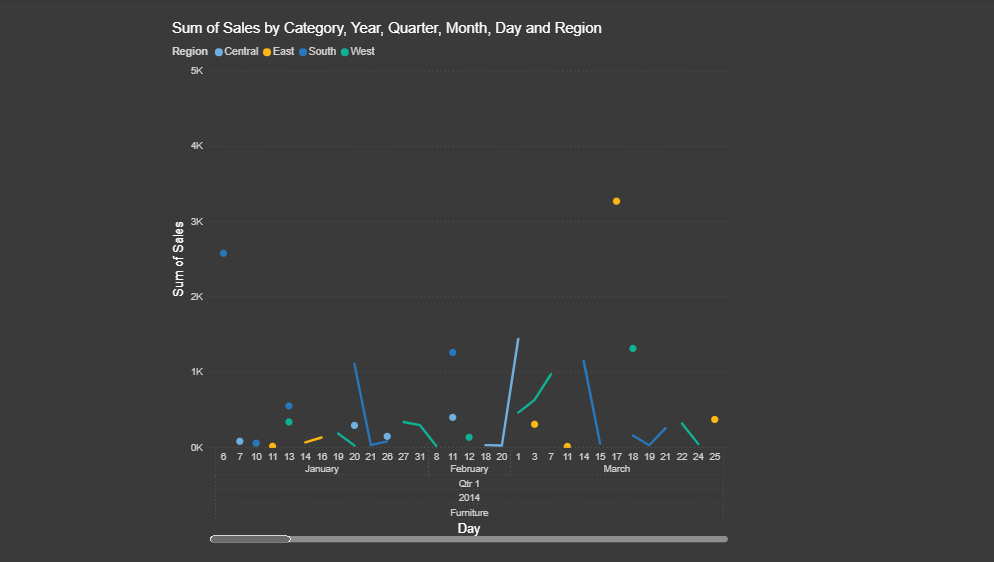

Layout of this report page (visuals, bound fields, positions):
{"tool":"powerbi","page":{"name":"Page 1","canvas":[1280,720],"ordinal":0},"visuals":[{"type":"lineChart","fields":{"Category":["Sample - Superstore.Category","Sample - Superstore.Order Date.Variation.Date Hierarchy.Year","Sample - Superstore.Order Date.Variation.Date Hierarchy.Quarter","Sample - Superstore.Order Date.Variation.Date Hierarchy.Month","Sample - Superstore.Order Date.Variation.Date Hierarchy.Day"],"Y":["Sum(Sample - Superstore.Sales)"],"Series":["Sample - Superstore.Region"]},"box":[220,28.3,710,663.3],"z":0}]}

Visuals, with their boxes in screenshot pixels (x1, y1, x2, y2), scaled from the page's 1280x720 canvas onto the 994x562 screenshot:
lineChart - Sample - Superstore.Category x Sample - Superstore.Order Date.Variation.Date Hierarchy.Year: [left=171, top=22, right=722, bottom=540]
